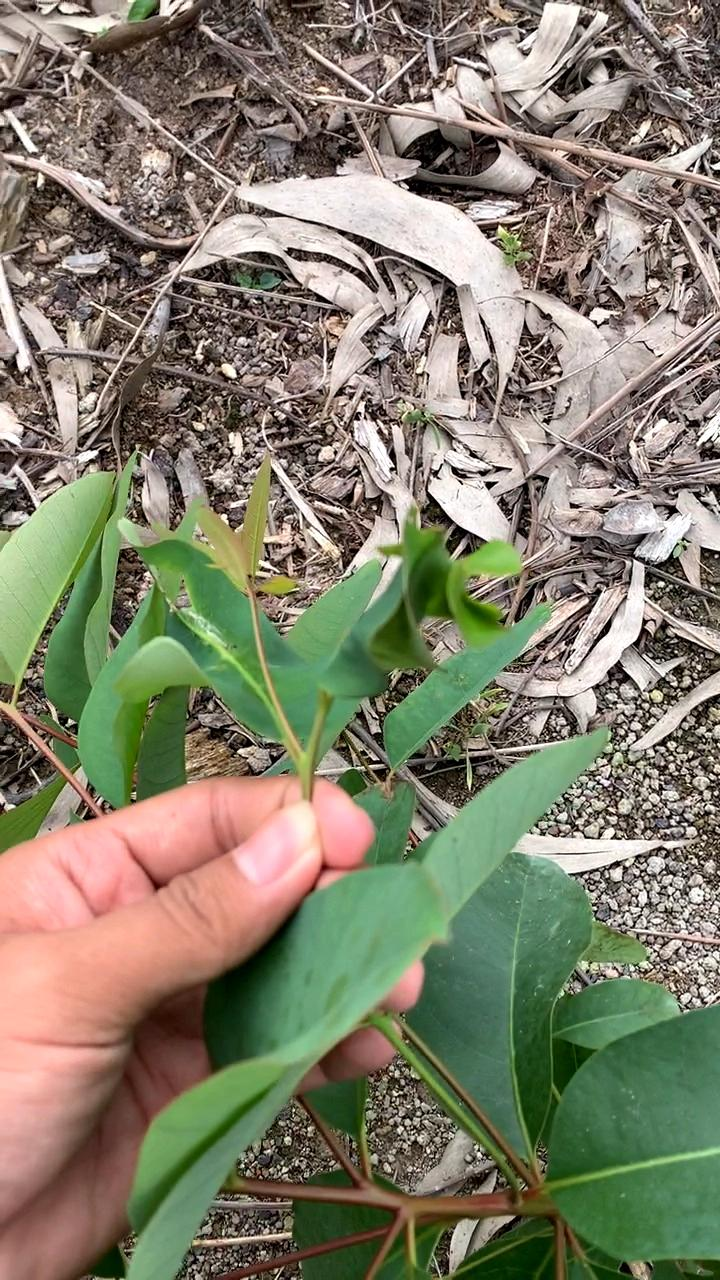Leaf Roller - Leaf: (305, 535, 541, 737)
